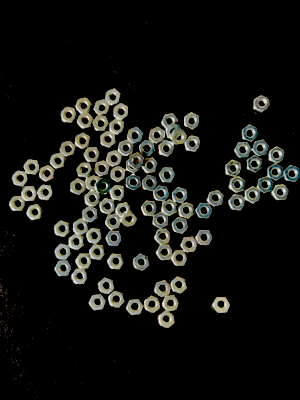nut: (246, 155, 264, 174), (271, 184, 291, 201), (162, 295, 180, 313), (257, 176, 275, 194), (229, 176, 247, 194), (225, 160, 243, 178), (253, 95, 271, 113), (213, 297, 232, 314), (242, 124, 259, 143), (89, 294, 107, 311), (155, 280, 172, 298), (171, 276, 188, 294), (181, 236, 199, 253), (179, 202, 196, 220), (207, 190, 225, 207), (267, 164, 285, 181), (252, 140, 270, 157), (234, 142, 252, 159), (49, 153, 67, 170), (106, 150, 123, 168), (118, 139, 135, 157), (100, 131, 117, 149), (127, 127, 144, 145), (149, 127, 166, 145), (185, 135, 202, 153), (170, 129, 188, 146), (165, 122, 182, 140), (105, 88, 122, 106), (184, 112, 200, 131), (127, 299, 144, 316), (108, 291, 125, 308), (98, 278, 115, 295), (172, 217, 189, 234), (269, 147, 286, 164), (153, 212, 170, 229), (172, 187, 189, 204), (153, 185, 170, 202), (142, 175, 159, 192), (110, 185, 127, 202), (94, 178, 111, 195), (60, 140, 77, 157), (39, 165, 56, 182), (142, 157, 159, 174), (139, 140, 156, 157), (61, 107, 78, 124), (94, 99, 111, 116), (159, 311, 175, 329), (145, 296, 161, 314), (196, 230, 214, 246), (156, 245, 174, 261), (72, 269, 90, 285), (55, 261, 73, 277), (75, 253, 93, 269), (155, 229, 173, 245), (196, 203, 214, 219), (229, 195, 247, 211), (245, 186, 261, 204), (284, 165, 300, 183), (73, 218, 89, 236), (120, 211, 138, 227), (83, 206, 99, 224), (75, 132, 91, 150), (9, 196, 27, 212), (94, 160, 110, 178), (129, 152, 145, 170), (109, 118, 125, 136), (114, 103, 130, 121), (75, 98, 93, 114), (172, 250, 189, 266), (134, 254, 150, 271), (108, 254, 125, 270), (89, 245, 106, 261), (55, 244, 72, 260), (69, 234, 85, 251), (106, 231, 123, 247), (86, 228, 103, 244), (54, 221, 71, 237), (162, 200, 178, 217), (141, 201, 158, 217), (115, 202, 132, 218), (100, 198, 116, 215), (126, 174, 142, 191), (70, 179, 86, 196), (77, 163, 94, 179), (84, 147, 101, 163), (24, 160, 41, 176), (12, 171, 29, 187), (37, 185, 54, 201), (21, 186, 38, 202), (27, 204, 43, 221), (159, 140, 175, 157), (92, 116, 109, 132), (77, 113, 94, 129), (105, 214, 121, 230), (85, 191, 101, 207), (86, 175, 102, 191), (159, 168, 176, 183), (111, 166, 126, 183), (162, 114, 179, 129), (126, 159, 142, 174)
